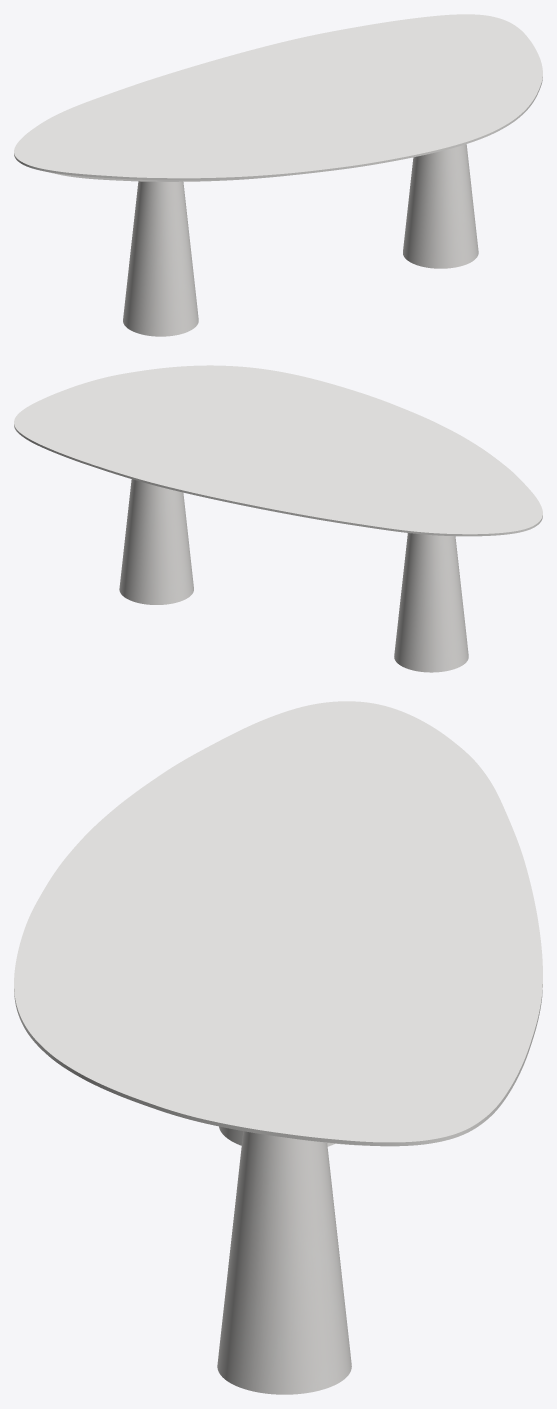
File: purewhite_pebbletop_facet_pebble.glb
The picture shows the model from 3 angles, top to bottom: view 1: azimuth 30°, elevation 25°; view 2: azimuth 150°, elevation 25°; view 3: azimuth 270°, elevation 25°; orthographic projection. The views are drawn at different scales.
Parts seen in each view (by area): view 1: facet_pebbletop, pebble; view 2: facet_pebbletop, pebble; view 3: facet_pebbletop, pebble.
Boxes of the visible parts, bbox=[...] form: facet_pebbletop: bbox=[14, 14, 542, 181]; pebble: bbox=[123, 144, 478, 336]; facet_pebbletop: bbox=[14, 365, 542, 536]; pebble: bbox=[119, 479, 468, 672]; facet_pebbletop: bbox=[14, 701, 542, 1146]; pebble: bbox=[217, 1126, 351, 1394].
Size of the model in its own units: 7.5 by 2.5 by 3.8.
Materials: 1 (1 with a texture image).
